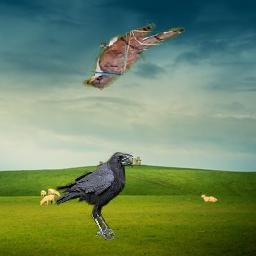Crow: (55, 152, 134, 240)
Cuckoo: (83, 19, 186, 91)
